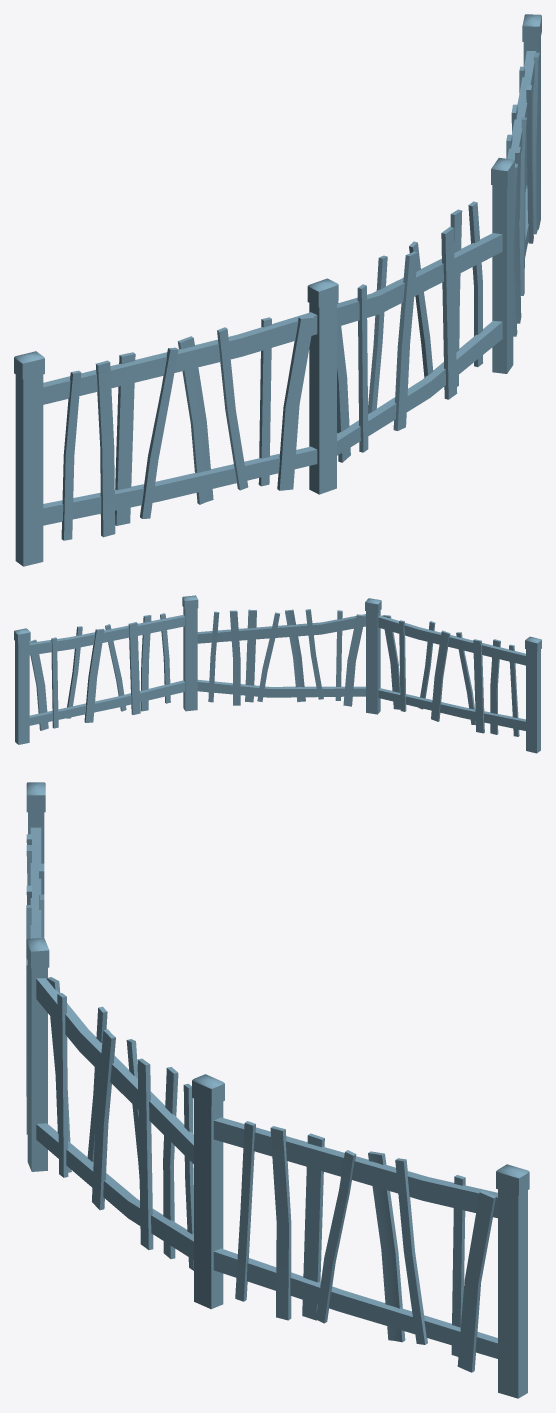
File: barriere1_low new.fbx
The picture shows the model from 3 angles, top to bottom: view 1: azimuth 30°, elevation 25°; view 2: azimuth 150°, elevation 25°; view 3: azimuth 270°, elevation 25°; orthographic projection. The views are drawn at different scales.
Visible parts, largest first — view 1: barriere_low (×2), Box021_low, metal_low; view 2: barriere_low (×2), Box021_low, metal_low; view 3: barriere_low (×2), Box021_low, metal_low.
Part boxes in pixels (x1=…): barriere_low (×2): x1=15, y1=37, x2=540, y2=566; Box021_low: x1=43, y1=51, x2=536, y2=525; metal_low: x1=14, y1=14, x2=541, y2=379; barriere_low (×2): x1=15, y1=608, x2=540, y2=753; Box021_low: x1=29, y1=614, x2=525, y2=730; metal_low: x1=14, y1=595, x2=541, y2=651; barriere_low (×2): x1=26, y1=812, x2=527, y2=1398; Box021_low: x1=30, y1=827, x2=497, y2=1358; metal_low: x1=26, y1=782, x2=529, y2=1195.
Bounding box in the file's own units: 450 × 119 × 242.
